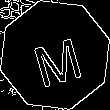M_N: (26, 24, 84, 86)
